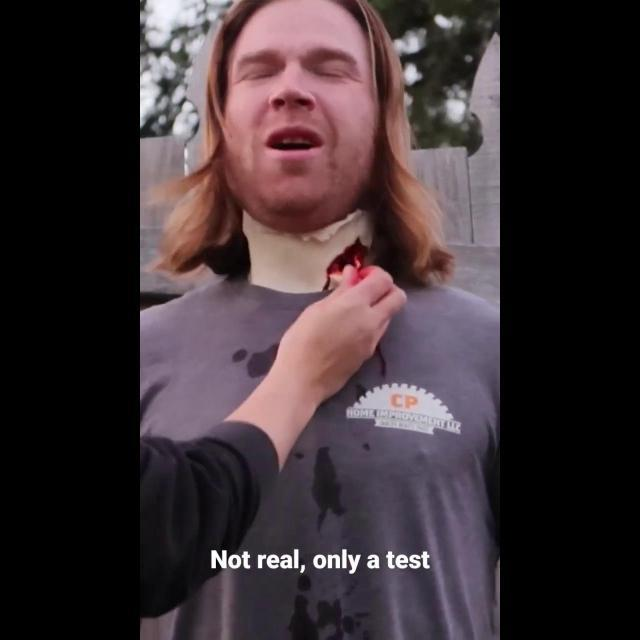blood: (322, 238, 368, 290)
